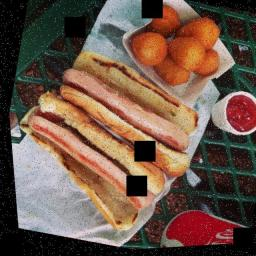hotdog: (6, 81, 180, 247), (40, 43, 210, 189)
